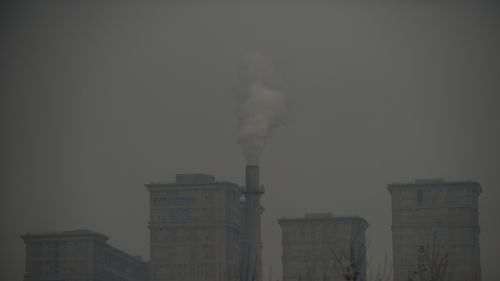dust: (225, 71, 289, 167)
